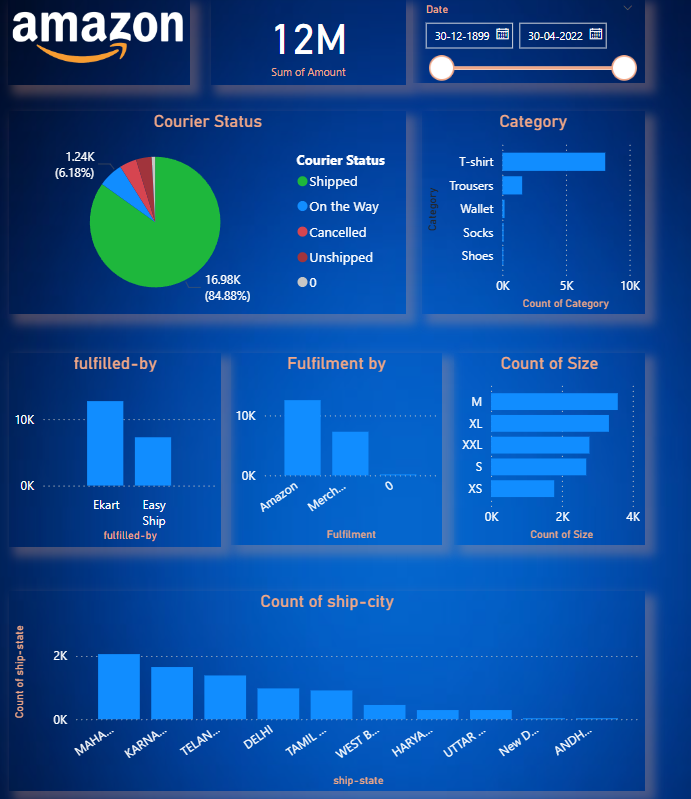

Layout of this report page (visuals, bound fields, positions):
{"tool":"powerbi","page":{"name":"Amazon Sales Report","canvas":[816,1056],"ordinal":0},"visuals":[{"type":"image","box":[10,8.6,181.4,85.7],"z":0},{"type":"card","fields":{"Values":["Sum(Amazon Sale Report.Amount)"]},"box":[212.1,8.6,195.7,85.7],"z":1000},{"type":"slicer","fields":{"Values":["Amazon Sale Report.Date"]},"box":[415,8,232,85],"z":2000},{"type":"barChart","title":" Category","fields":{"Category":["Amazon Sale Report.Category"],"Y":["CountNonNull(Amazon Sale Report.Category)"]},"box":[424,121,223,203],"z":3000},{"type":"pieChart","title":"Courier Status ","fields":{"Category":["Amazon Sale Report.Courier Status"],"Y":["CountNonNull(Amazon Sale Report.Courier Status)"]},"box":[10.7,120.7,397.1,202.9],"z":4000},{"type":"columnChart","title":"fulfilled-by","fields":{"Category":["Amazon Sale Report.fulfilled-by"],"Y":["CountNonNull(Amazon Sale Report.fulfilled-by)"]},"box":[10.7,362.1,212.1,193.6],"z":5000},{"type":"columnChart","title":"Fulfilment by ","fields":{"Category":["Amazon Sale Report.Fulfilment"],"Y":["CountNonNull(Amazon Sale Report.Fulfilment)"]},"box":[232.1,362.9,212.1,192.9],"z":6000},{"type":"barChart","title":"Count of Size ","fields":{"Category":["Amazon Sale Report.Size"],"Y":["CountNonNull(Amazon Sale Report.Size)"]},"box":[455.7,362.9,190.7,192.9],"z":7000},{"type":"columnChart","title":"Count of ship-city ","fields":{"Category":["Amazon Sale Report.ship-state"],"Y":["CountNonNull(Amazon Sale Report.ship-state)"]},"box":[11,601,636,200],"z":8000}]}

Visuals, with their boxes on the page's 816x1056 design canvas (x1, y1, x2, y2). These are canvas units, not pixel positions in the 691x799 screenshot, which may show the page scaled, cropped or inside an application window:
image: (x1=10, y1=9, x2=191, y2=94)
card - Sum(Amazon Sale Report.Amount): (x1=212, y1=9, x2=408, y2=94)
slicer - Amazon Sale Report.Date: (x1=415, y1=8, x2=647, y2=93)
" Category" barChart: (x1=424, y1=121, x2=647, y2=324)
"Courier Status " pieChart: (x1=11, y1=121, x2=408, y2=324)
"fulfilled-by" columnChart: (x1=11, y1=362, x2=223, y2=556)
"Fulfilment by " columnChart: (x1=232, y1=363, x2=444, y2=556)
"Count of Size " barChart: (x1=456, y1=363, x2=646, y2=556)
"Count of ship-city " columnChart: (x1=11, y1=601, x2=647, y2=801)
